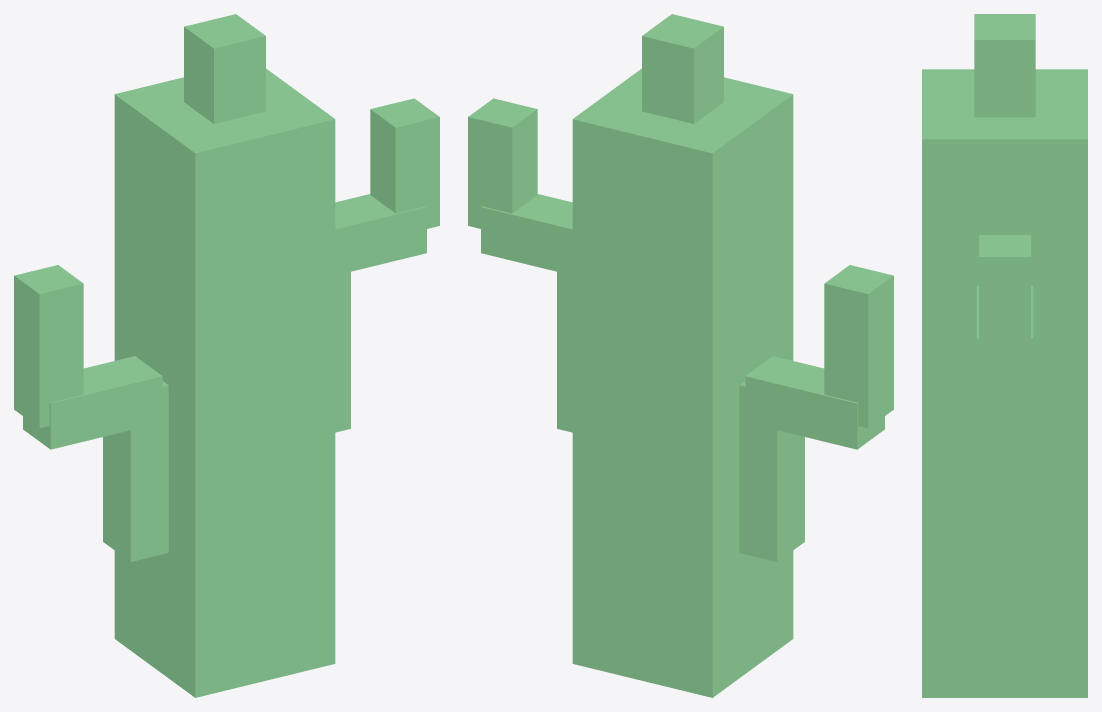
Rendered from cactus.gltf.
3 views of the same model, side by side, from view 1: azimuth 30°, elevation 25°; view 2: azimuth 150°, elevation 25°; view 3: azimuth 270°, elevation 25° (orthographic). The views are drawn at different scales.
Visible parts, largest first — view 1: body (×8); view 2: body (×8); view 3: body (×5).
Boxes of the visible parts, x1=… form: body (×8): x1=14, y1=14, x2=439, y2=697; body (×8): x1=468, y1=14, x2=893, y2=697; body (×5): x1=922, y1=14, x2=1087, y2=697.
Bounding box in the file's own units: 2 × 2.96 × 0.7.
